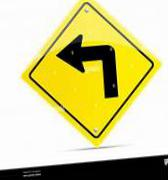left: (21, 1, 161, 147)
